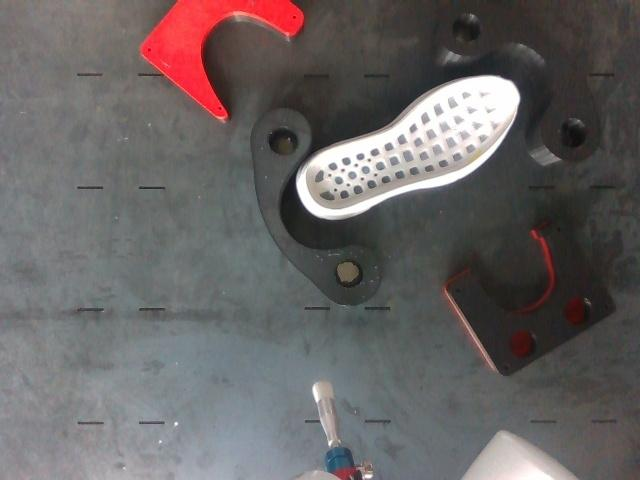shoes: (305, 76, 518, 209)
